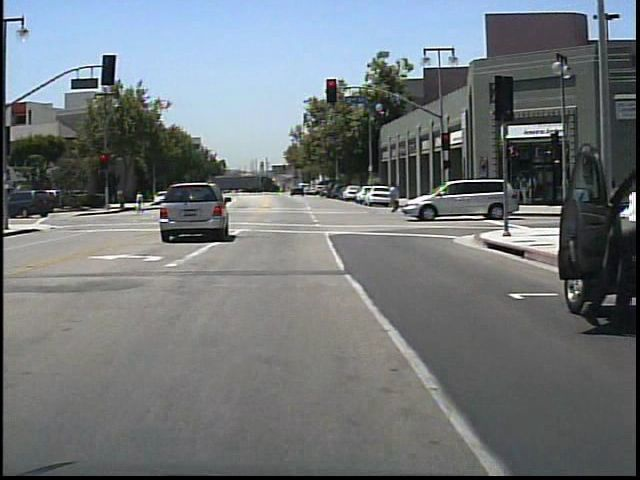person: (386, 182, 405, 217), (135, 190, 150, 218)
